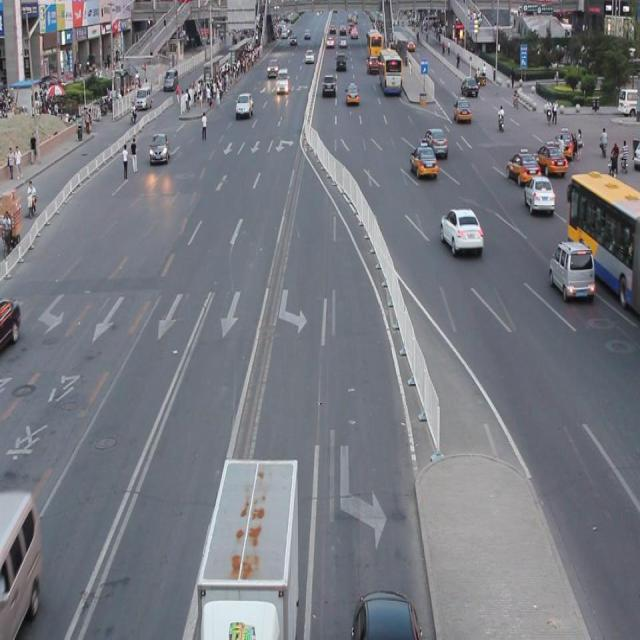BigCar: (195, 432, 315, 640), (568, 157, 640, 303)
car: (1, 450, 40, 624), (533, 239, 603, 311), (347, 576, 420, 640), (425, 193, 488, 267), (442, 71, 478, 152), (418, 108, 457, 169), (138, 120, 178, 177), (522, 175, 565, 224), (400, 135, 436, 186), (375, 45, 402, 97), (457, 58, 486, 100), (340, 70, 362, 124), (238, 82, 256, 124), (324, 67, 343, 102), (265, 46, 279, 89), (278, 64, 292, 103), (304, 40, 319, 69)
